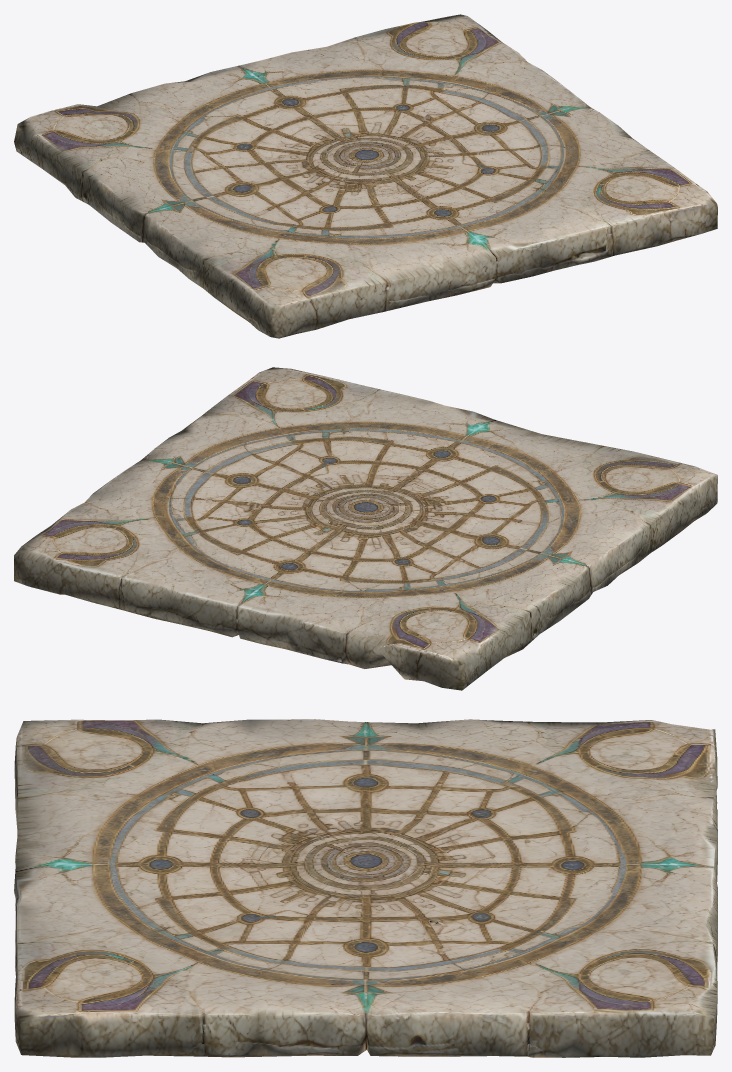
The model's file is Tile_Time_Floor.fbx.
3 renders of one model, top to bottom at view 1: azimuth 30°, elevation 25°; view 2: azimuth 150°, elevation 25°; view 3: azimuth 270°, elevation 25°, orthographic. The views are drawn at different scales.
Parts seen in each view (by area): view 1: texture_mapping; view 2: texture_mapping; view 3: texture_mapping.
Part boxes in pixels (x1=…): texture_mapping: x1=14, y1=14, x2=717, y2=338; texture_mapping: x1=14, y1=367, x2=717, y2=690; texture_mapping: x1=14, y1=719, x2=717, y2=1057.
Bounding box in the file's own units: 1 × 1 × 0.0829.
1 material, 1 textured.
